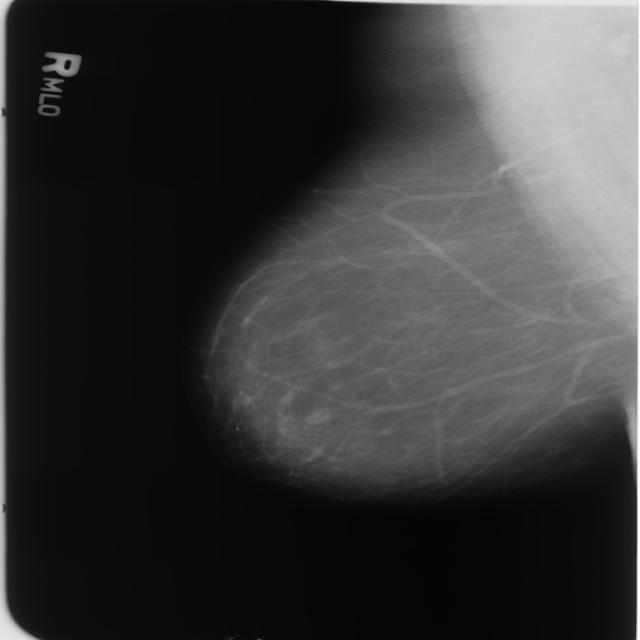tumour: (303, 406, 332, 423)
